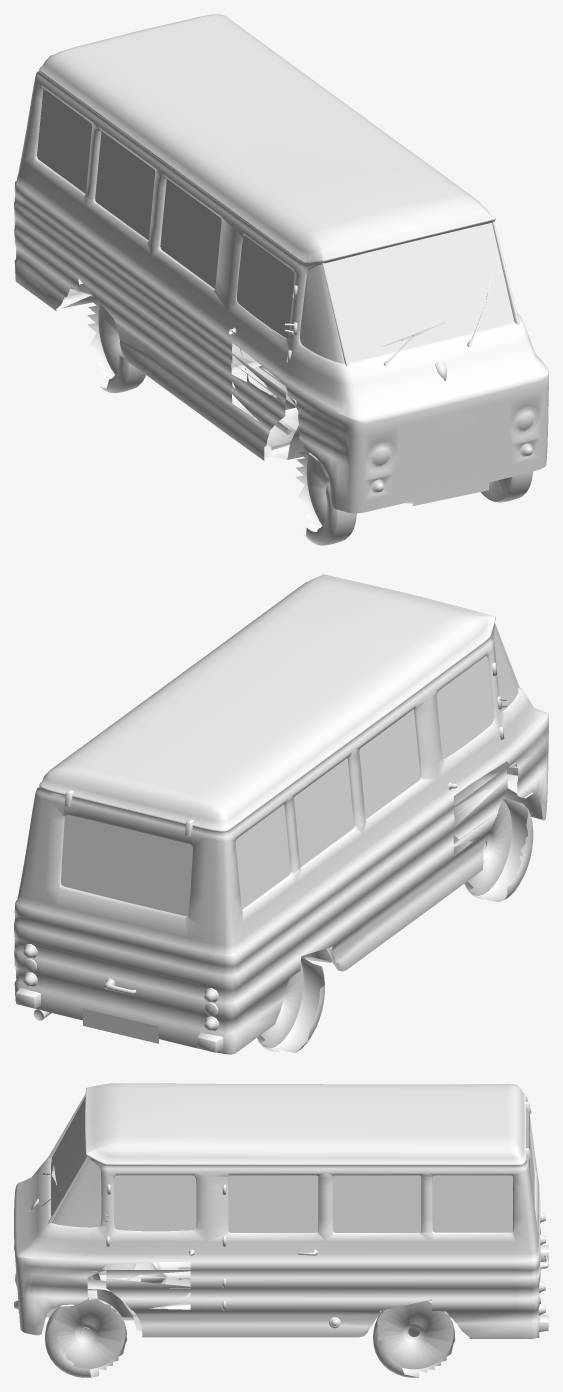
The picture shows the model from 3 angles, top to bottom: view 1: azimuth 30°, elevation 25°; view 2: azimuth 150°, elevation 25°; view 3: azimuth 270°, elevation 25°; orthographic projection. The views are drawn at different scales.
Bounding box in the file's own units: 1.68 × 2.05 × 4.31.
Materials: 1 (1 with a texture image).
